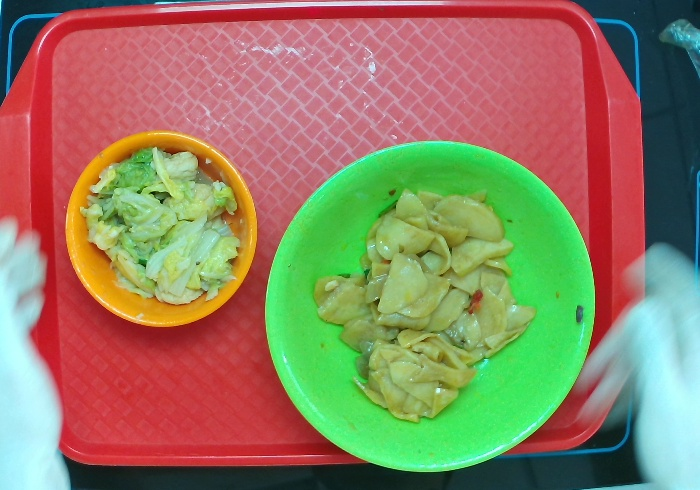YKMZ-Ju_Se_Yuan_Wan: (66, 131, 259, 328)
YKMZ-Lv_Se_Tang_Wan: (260, 139, 602, 474)
